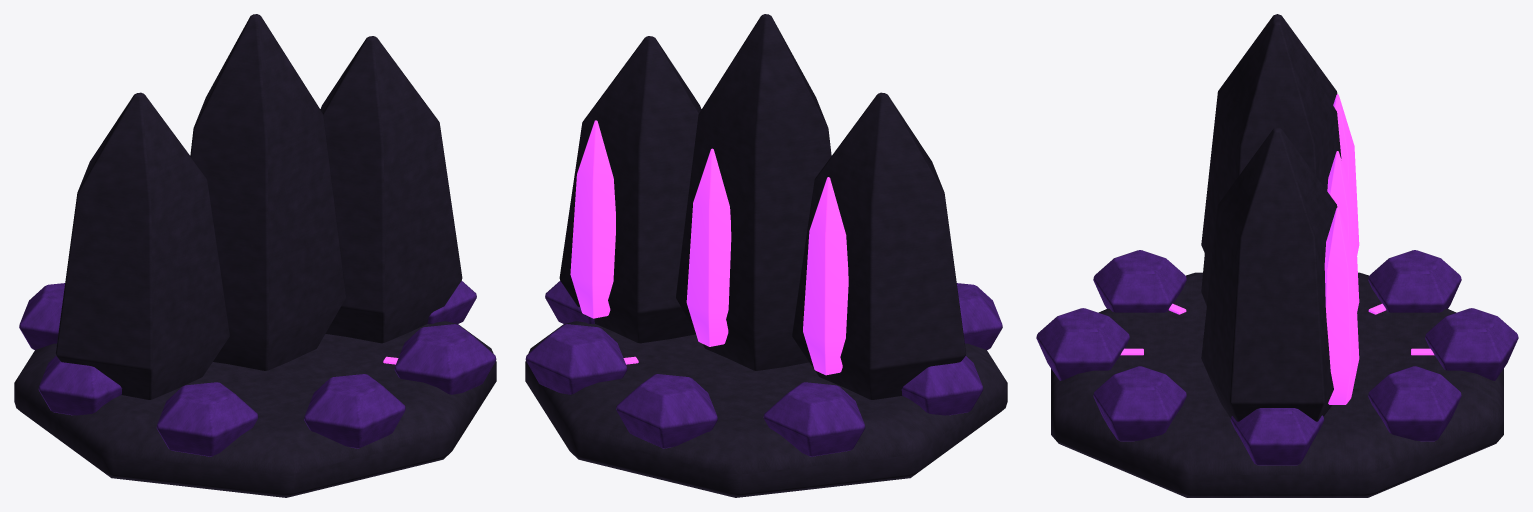
File: conclave_mur_de_pierre_noire.gltf
The picture shows the model from 3 angles, left to right: view 1: azimuth 30°, elevation 25°; view 2: azimuth 150°, elevation 25°; view 3: azimuth 270°, elevation 25°; orthographic projection.
Parts seen in each view (by area): view 1: Root.006_Geometry; view 2: Root.006_Geometry; view 3: Root.006_Geometry.
Part boxes in pixels (bbox=[...]): Root.006_Geometry: bbox=[14, 14, 496, 497]; Root.006_Geometry: bbox=[525, 14, 1007, 497]; Root.006_Geometry: bbox=[1036, 14, 1518, 497].
Bounding box in the file's own units: 2.12 × 1.83 × 2.08.
3 materials, 2 textured.
